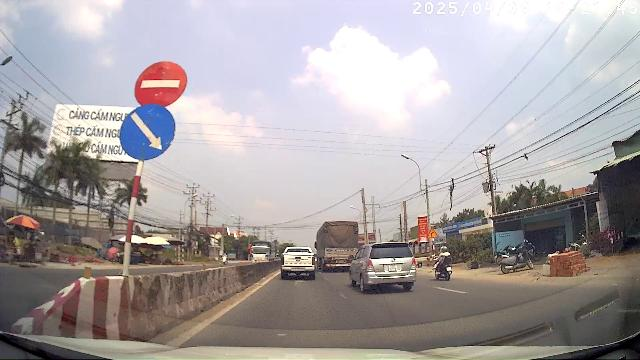102-cam-di-nguoc-chieu: (133, 60, 188, 106)
302a-huong-phai-di-vong-chuong-ngai-vat-1: (119, 106, 176, 161)
